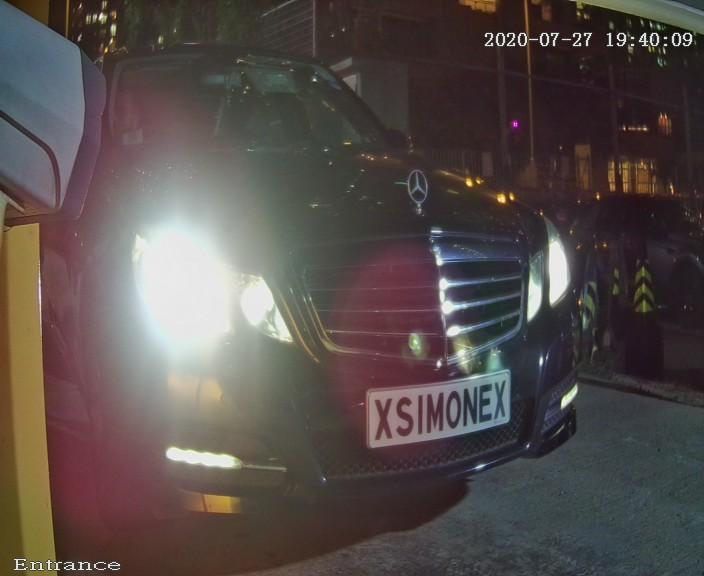privatecar: (104, 8, 623, 538)
